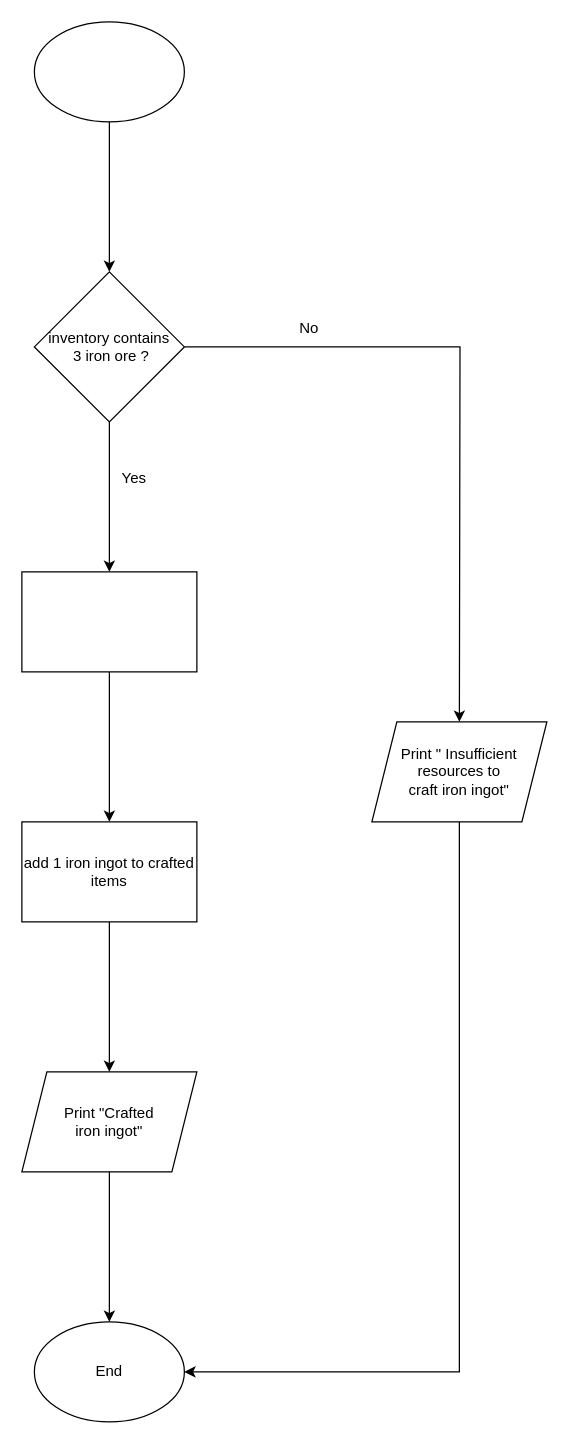
Some shapes in this 569 by 1444 pixel diagram are drawn without their labels. The box of each missing label's shape, as (x1, y1, x2, y2) in pixels:
remove 3 iron ores from inventory: (21, 571, 197, 672)
Start craftIronIngot: (33, 21, 184, 122)
